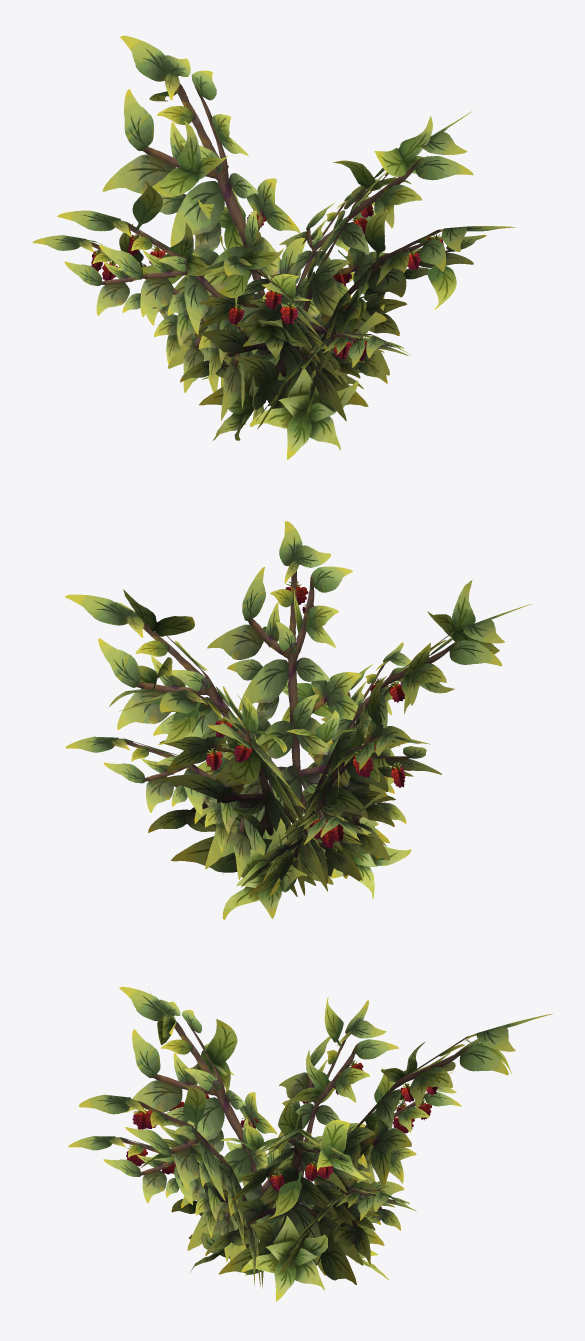
The model's file is berryBush_Finland_01_v01 (1).fbx.
3 renders of one model, top to bottom at view 1: azimuth 30°, elevation 25°; view 2: azimuth 150°, elevation 25°; view 3: azimuth 270°, elevation 25°, orthographic. The views are drawn at different scales.
Visible parts, largest first — view 1: BUSH1; view 2: BUSH1; view 3: BUSH1.
Boxes of the visible parts, x1,y1,x2,y2 form: BUSH1: [32, 35, 515, 459]; BUSH1: [65, 521, 531, 919]; BUSH1: [68, 986, 552, 1301].
Size of the model in its own units: 2.67 by 1.69 by 3.12.
